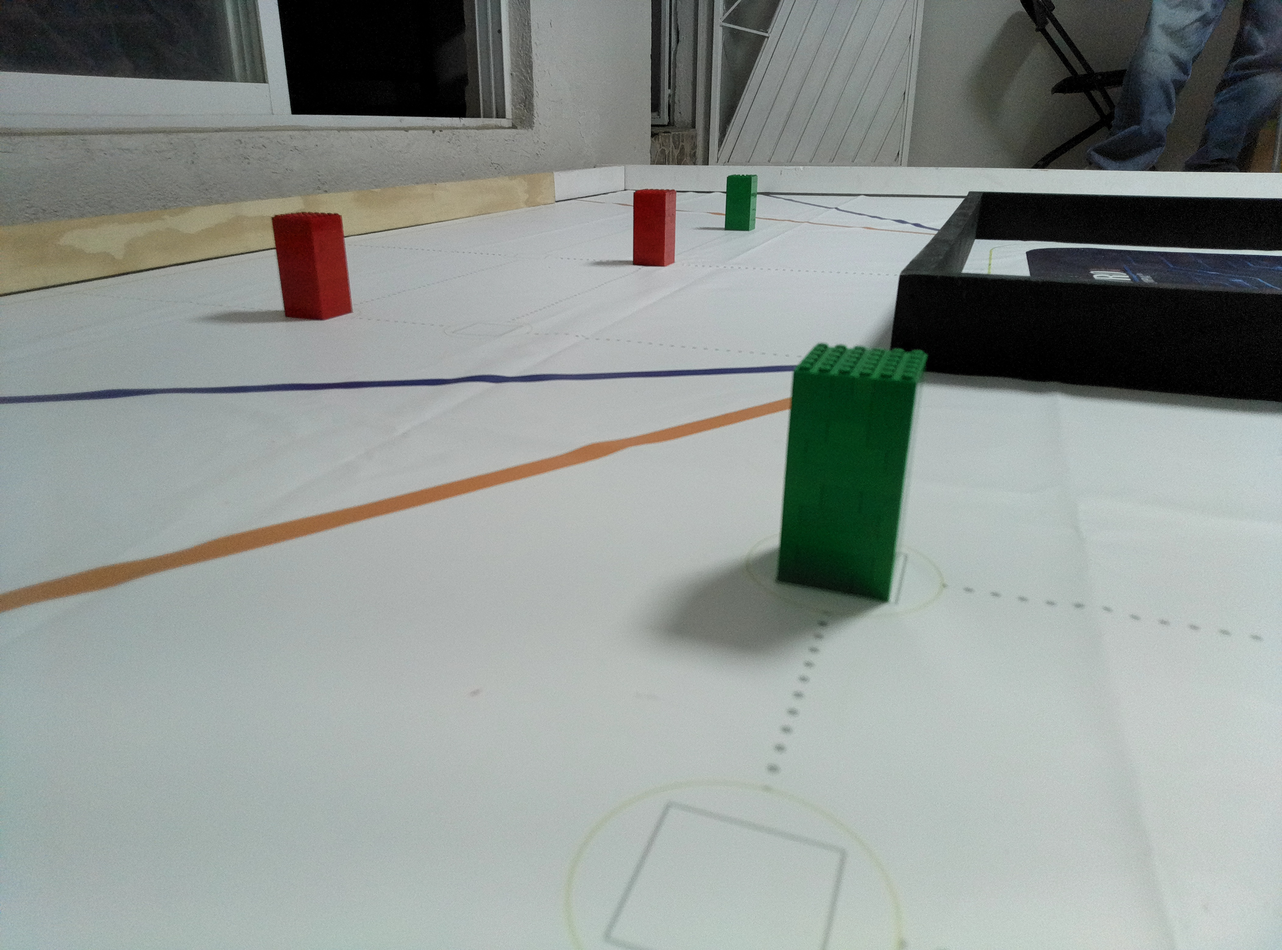greenbox: (773, 340, 929, 603), (724, 173, 758, 231)
redbox: (271, 212, 354, 321), (631, 187, 676, 268)
